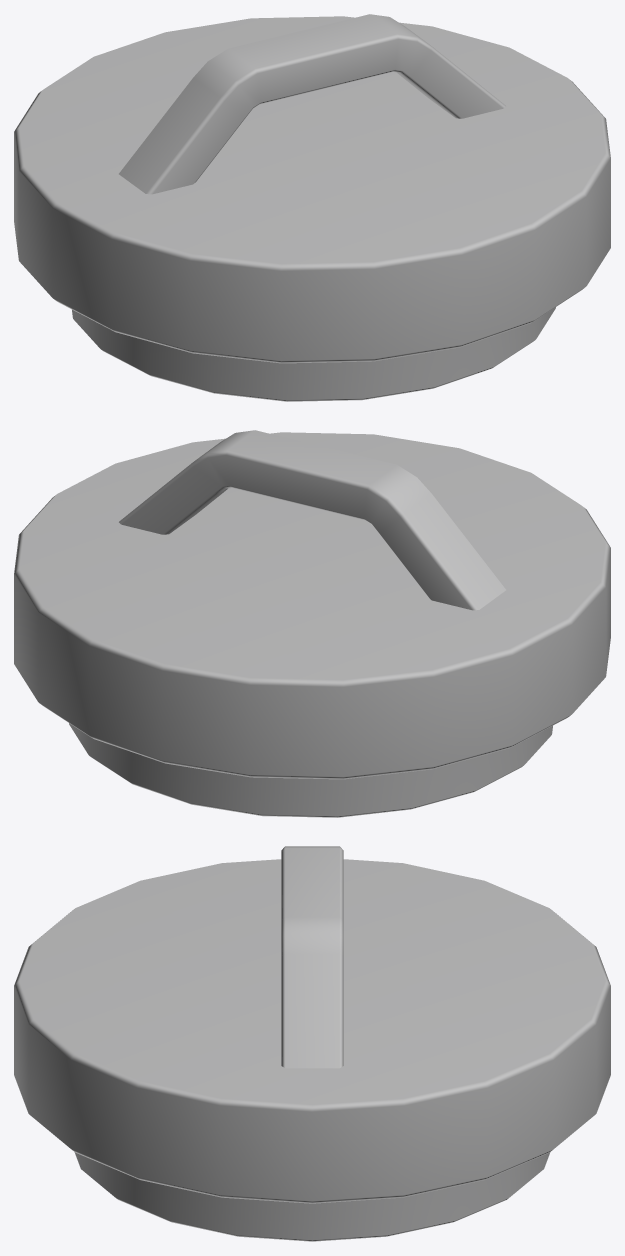
File: Farm_19_Milk_Conteiner_LId_1.glb
The picture shows the model from 3 angles, top to bottom: view 1: azimuth 30°, elevation 25°; view 2: azimuth 150°, elevation 25°; view 3: azimuth 270°, elevation 25°; orthographic projection.
Visible parts, largest first — view 1: Farm_19_Milk_Conteiner_LId_1; view 2: Farm_19_Milk_Conteiner_LId_1; view 3: Farm_19_Milk_Conteiner_LId_1.
Part boxes in pixels (<box>): Farm_19_Milk_Conteiner_LId_1: <box>14,14,610,401</box>; Farm_19_Milk_Conteiner_LId_1: <box>14,430,610,817</box>; Farm_19_Milk_Conteiner_LId_1: <box>14,846,610,1241</box>.
Size of the model in its own units: 0.3381 by 0.1609 by 0.3381.
1 material, 1 textured.
